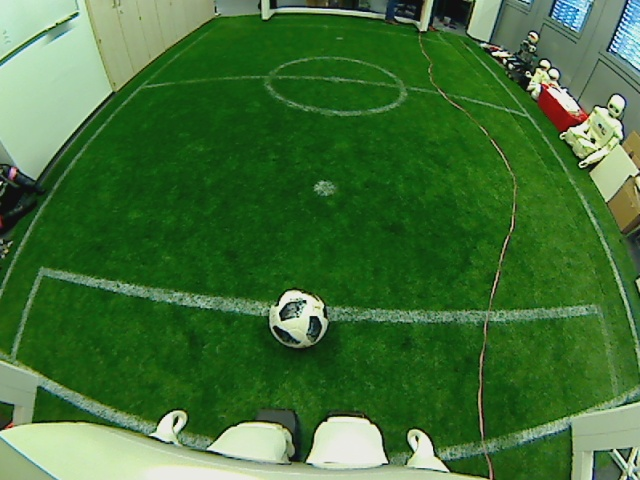ball: (269, 288, 329, 351)
